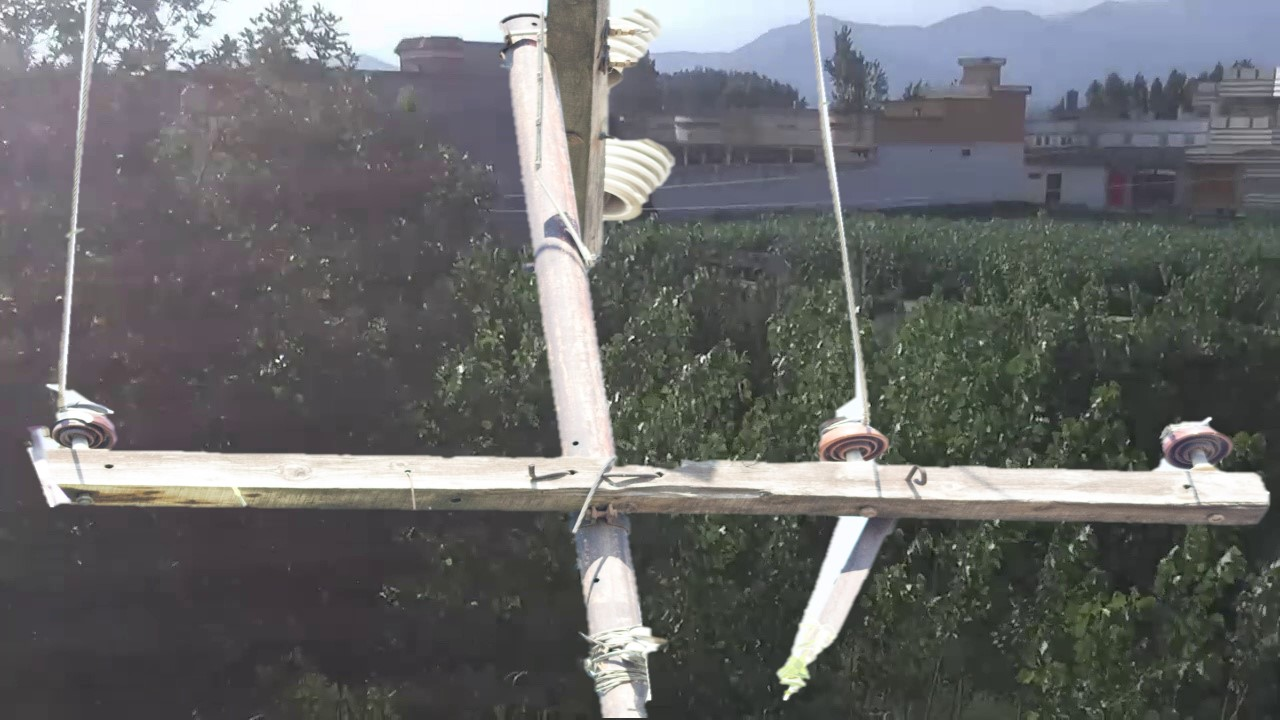defect_pin: (47, 386, 120, 456)
insulator_pin: (1155, 411, 1241, 471), (815, 414, 893, 463)
